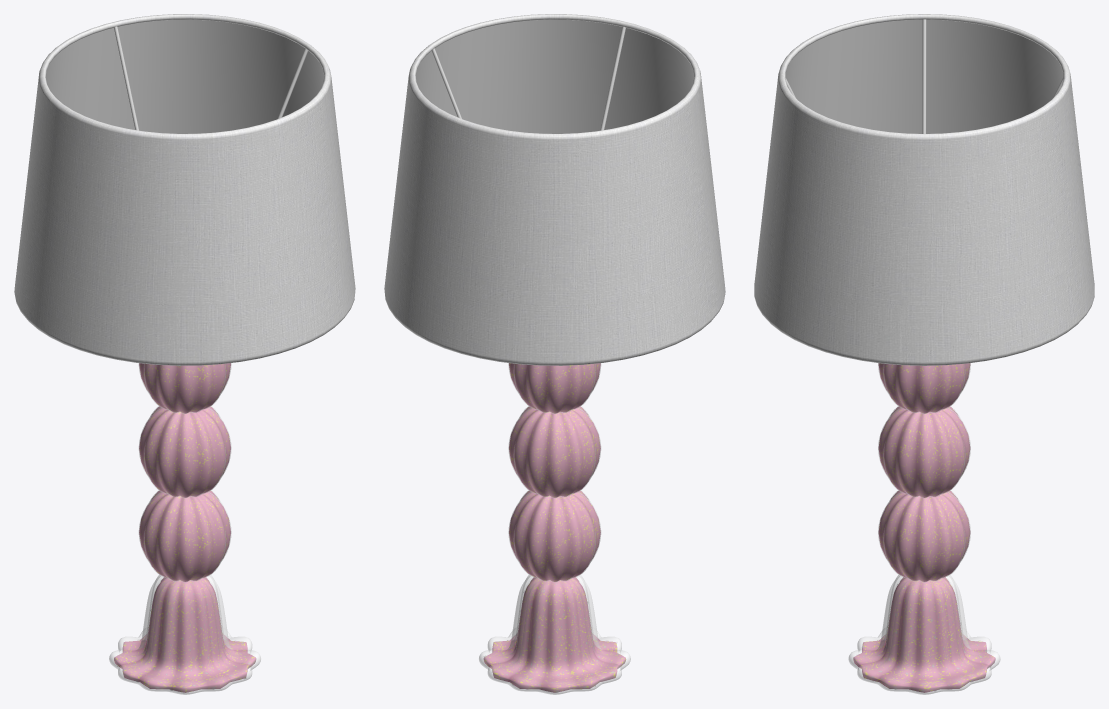
Rendered from abajur.glb.
3 views of the same model, side by side, from view 1: azimuth 30°, elevation 25°; view 2: azimuth 150°, elevation 25°; view 3: azimuth 270°, elevation 25° (orthographic).
Parts seen in each view (by area): view 1: Mesh12, Mesh13, Mesh1, Mesh5.002, Mesh9.001, Mesh9.002, Mesh9.009, Mesh9.010, Mesh9, Mesh9.004; view 2: Mesh12, Mesh13, Mesh1, Mesh5.002, Mesh9.001, Mesh9.002, Mesh9.009, Mesh9.010, Mesh9, Mesh9.004; view 3: Mesh12, Mesh13, Mesh1, Mesh5.002, Mesh9.002, Mesh9.001, Mesh9.009, Mesh9.010, Mesh9, Mesh9.004, Mesh16.
Part boxes in pixels (box(x1,y1,x2,y2)): Mesh12: box(14, 14, 355, 365); Mesh13: box(46, 19, 323, 133); Mesh1: box(109, 574, 260, 694); Mesh5.002: box(114, 577, 256, 692); Mesh9.001: box(138, 406, 231, 498); Mesh9.002: box(138, 490, 231, 582); Mesh9.009: box(139, 406, 230, 497); Mesh9.010: box(139, 491, 230, 581); Mesh9: box(138, 363, 231, 413); Mesh9.004: box(139, 363, 230, 413); Mesh12: box(384, 14, 725, 365); Mesh13: box(416, 19, 693, 133); Mesh1: box(479, 574, 630, 694); Mesh5.002: box(483, 577, 625, 692); Mesh9.001: box(508, 406, 601, 498); Mesh9.002: box(508, 490, 601, 582); Mesh9.009: box(509, 406, 600, 497); Mesh9.010: box(509, 491, 600, 581); Mesh9: box(508, 363, 601, 413); Mesh9.004: box(509, 363, 600, 413); Mesh12: box(754, 14, 1094, 365); Mesh13: box(785, 19, 1063, 133); Mesh1: box(848, 575, 1000, 694); Mesh5.002: box(853, 577, 995, 692); Mesh9.002: box(878, 490, 970, 582); Mesh9.001: box(878, 406, 970, 498); Mesh9.009: box(878, 406, 970, 497); Mesh9.010: box(878, 491, 970, 581); Mesh9: box(878, 363, 970, 414); Mesh9.004: box(878, 363, 970, 413); Mesh16: box(922, 19, 926, 133).
Size of the model in its own units: 0.3505 by 0.6701 by 0.3498.
9 materials, 3 textured.
